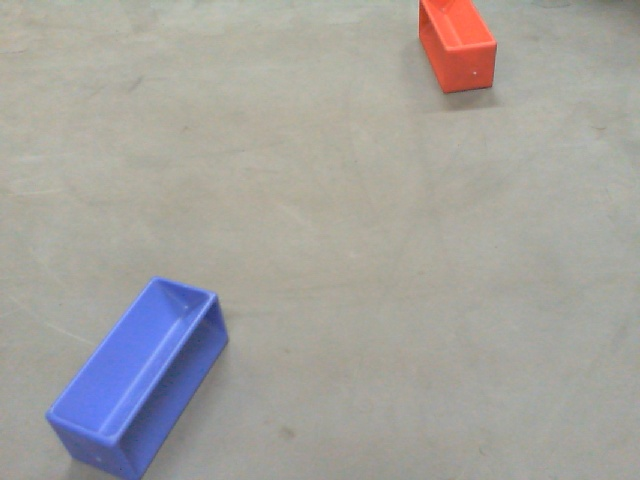BlueSample: (43, 276, 240, 477)
RedSample: (415, 1, 502, 94)
